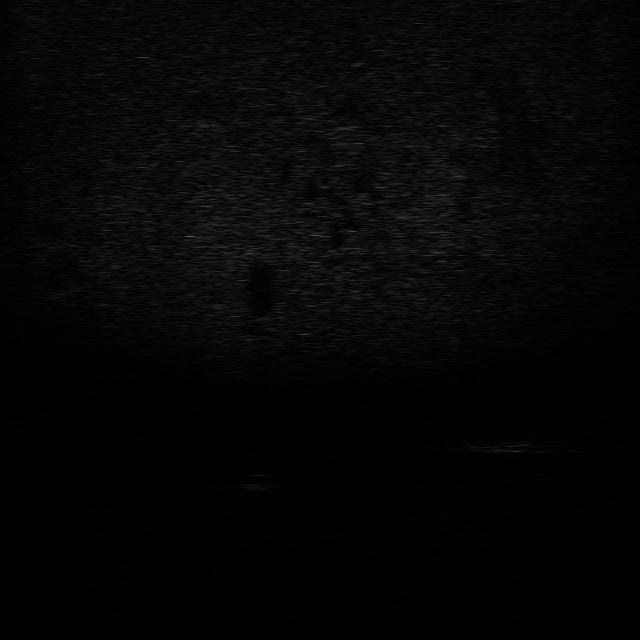ball: (236, 467, 282, 492)
human body: (456, 432, 562, 456)
